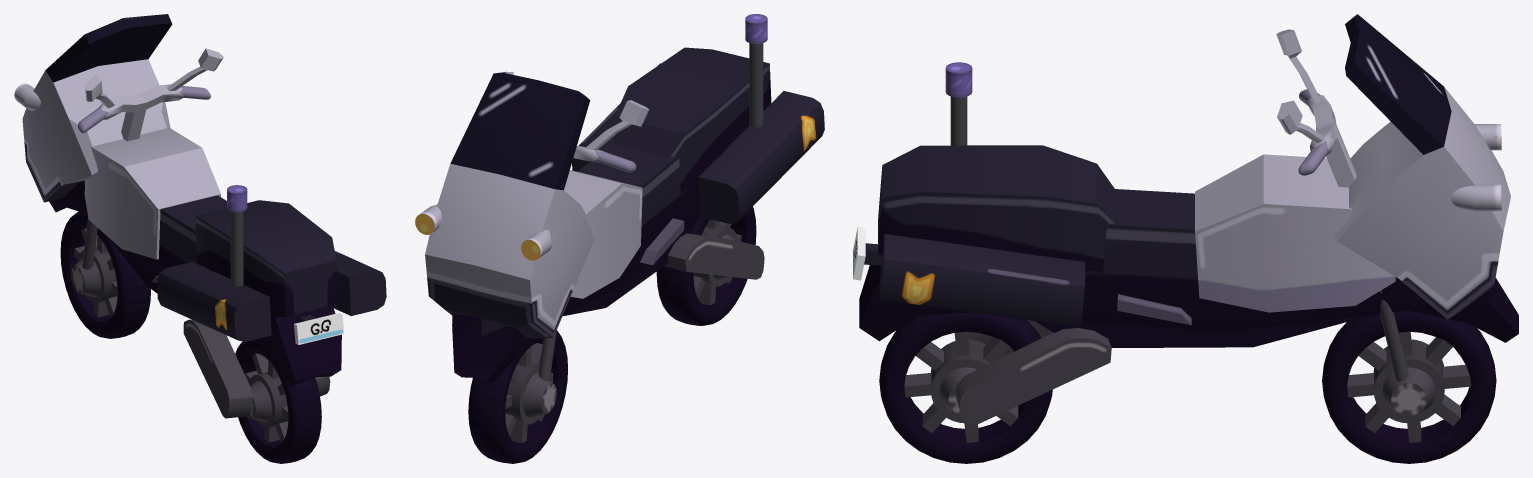
File: Motorcycle.fbx
3 views of the same model, side by side, from view 1: azimuth 30°, elevation 25°; view 2: azimuth 150°, elevation 25°; view 3: azimuth 270°, elevation 25° (orthographic). The views are drawn at different scales.
Parts seen in each view (by area): view 1: REAL Motorcycle; view 2: REAL Motorcycle; view 3: REAL Motorcycle.
Boxes of the visible parts, bbox=[...] form: REAL Motorcycle: bbox=[14, 14, 386, 463]; REAL Motorcycle: bbox=[415, 14, 824, 463]; REAL Motorcycle: bbox=[853, 14, 1518, 463].
Bounding box in the file's own units: 90.21 × 187 × 265.
